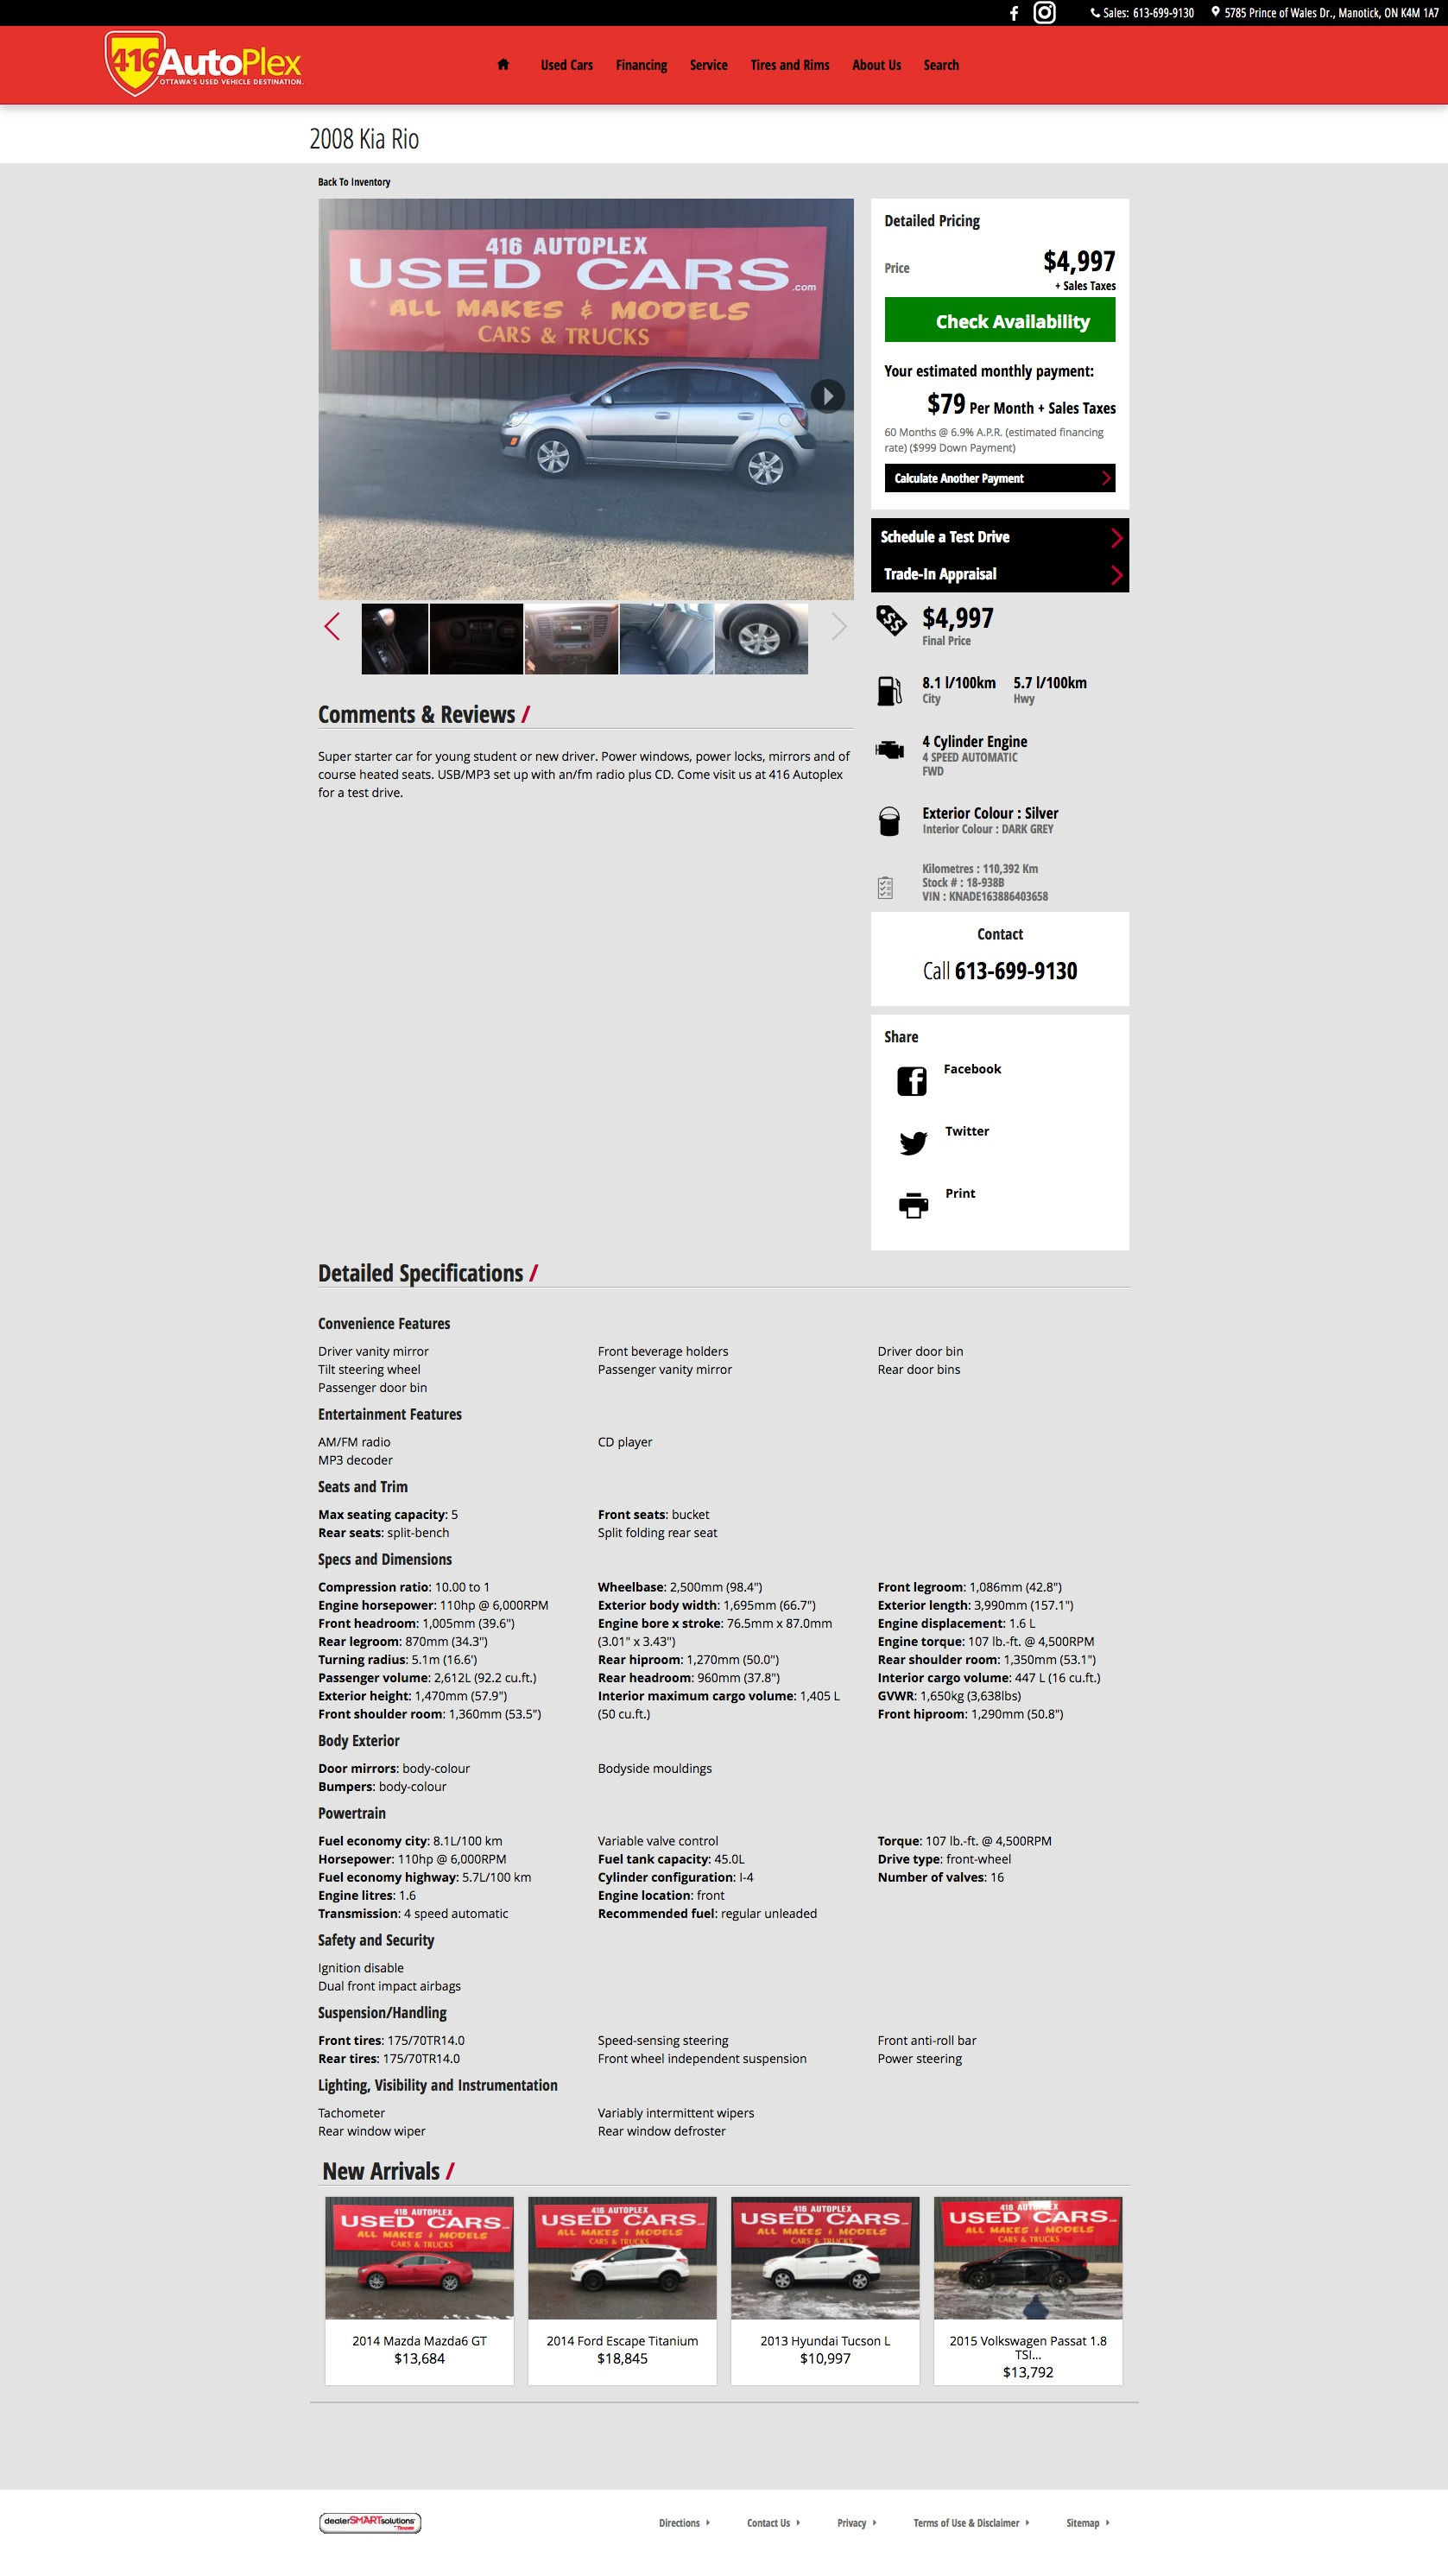car: (833, 614, 847, 642)
